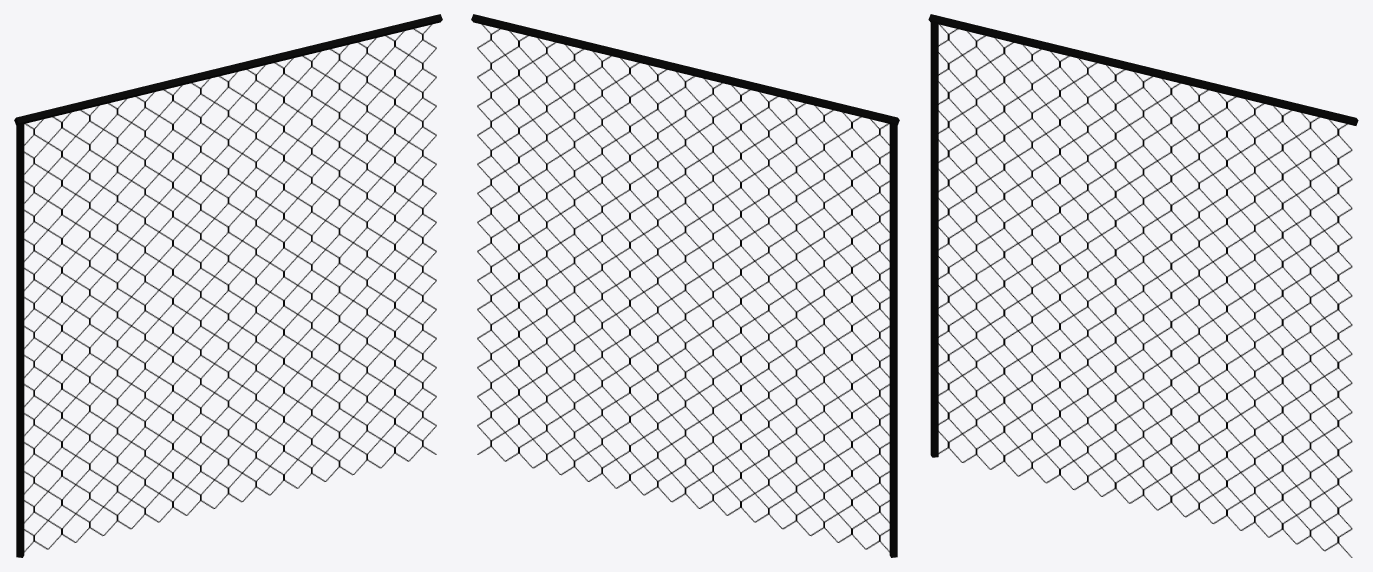
Rendered from fence-metal-closed-l.glb.
The picture shows the model from 3 angles, left to right: view 1: azimuth 30°, elevation 25°; view 2: azimuth 150°, elevation 25°; view 3: azimuth 330°, elevation 25°; orthographic projection.
Parts seen in each view (by area): view 1: fence.metal_closed_L; view 2: fence.metal_closed_L; view 3: fence.metal_closed_L.
Boxes of the visible parts, x1,y1,x2,y2 form: fence.metal_closed_L: [14, 14, 442, 557]; fence.metal_closed_L: [471, 14, 899, 557]; fence.metal_closed_L: [928, 14, 1358, 557].
Bounding box in the file's own units: 2.04 × 2.02 × 0.0386.
1 material, 1 textured.
